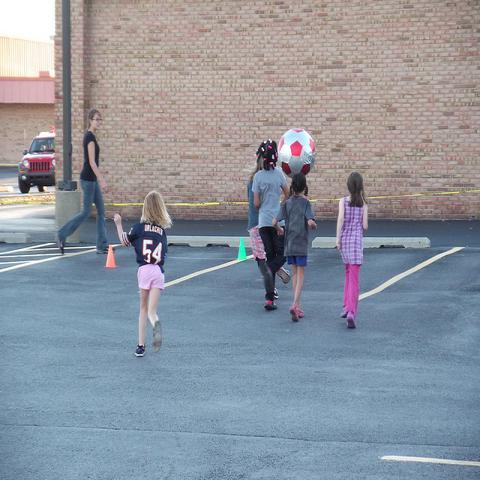car: (18, 132, 55, 192)
truck: (17, 128, 57, 192)
